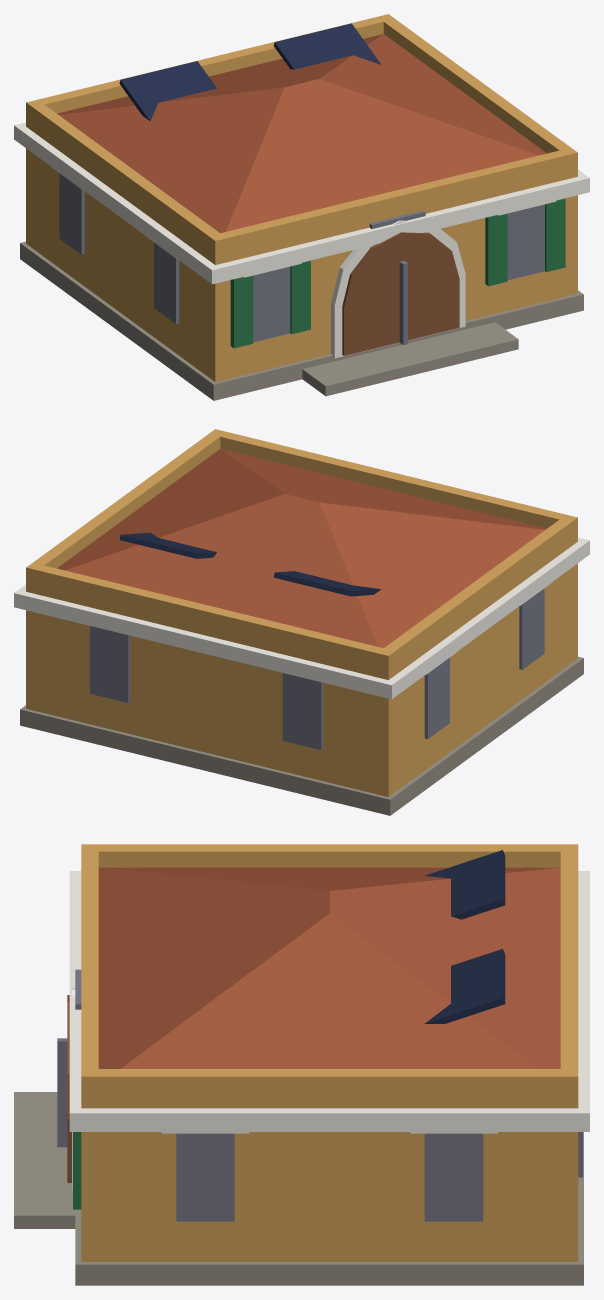
Rendered from house-1x1-1f-colonial-a-solar.glb.
3 renders of one model, top to bottom at view 1: azimuth 30°, elevation 25°; view 2: azimuth 150°, elevation 25°; view 3: azimuth 270°, elevation 25°, orthographic. The views are drawn at different scales.
Visible parts, largest first — view 1: house-1x1-1f-colonial-a-solar; view 2: house-1x1-1f-colonial-a-solar; view 3: house-1x1-1f-colonial-a-solar.
Boxes of the visible parts, box(x1,y1,x2,y2) form: house-1x1-1f-colonial-a-solar: box(14, 14, 589, 400); house-1x1-1f-colonial-a-solar: box(14, 429, 589, 815); house-1x1-1f-colonial-a-solar: box(14, 844, 589, 1285).
Bounding box in the file's own units: 0.98 × 0.5 × 0.985.
Materials: 1 (1 with a texture image).
